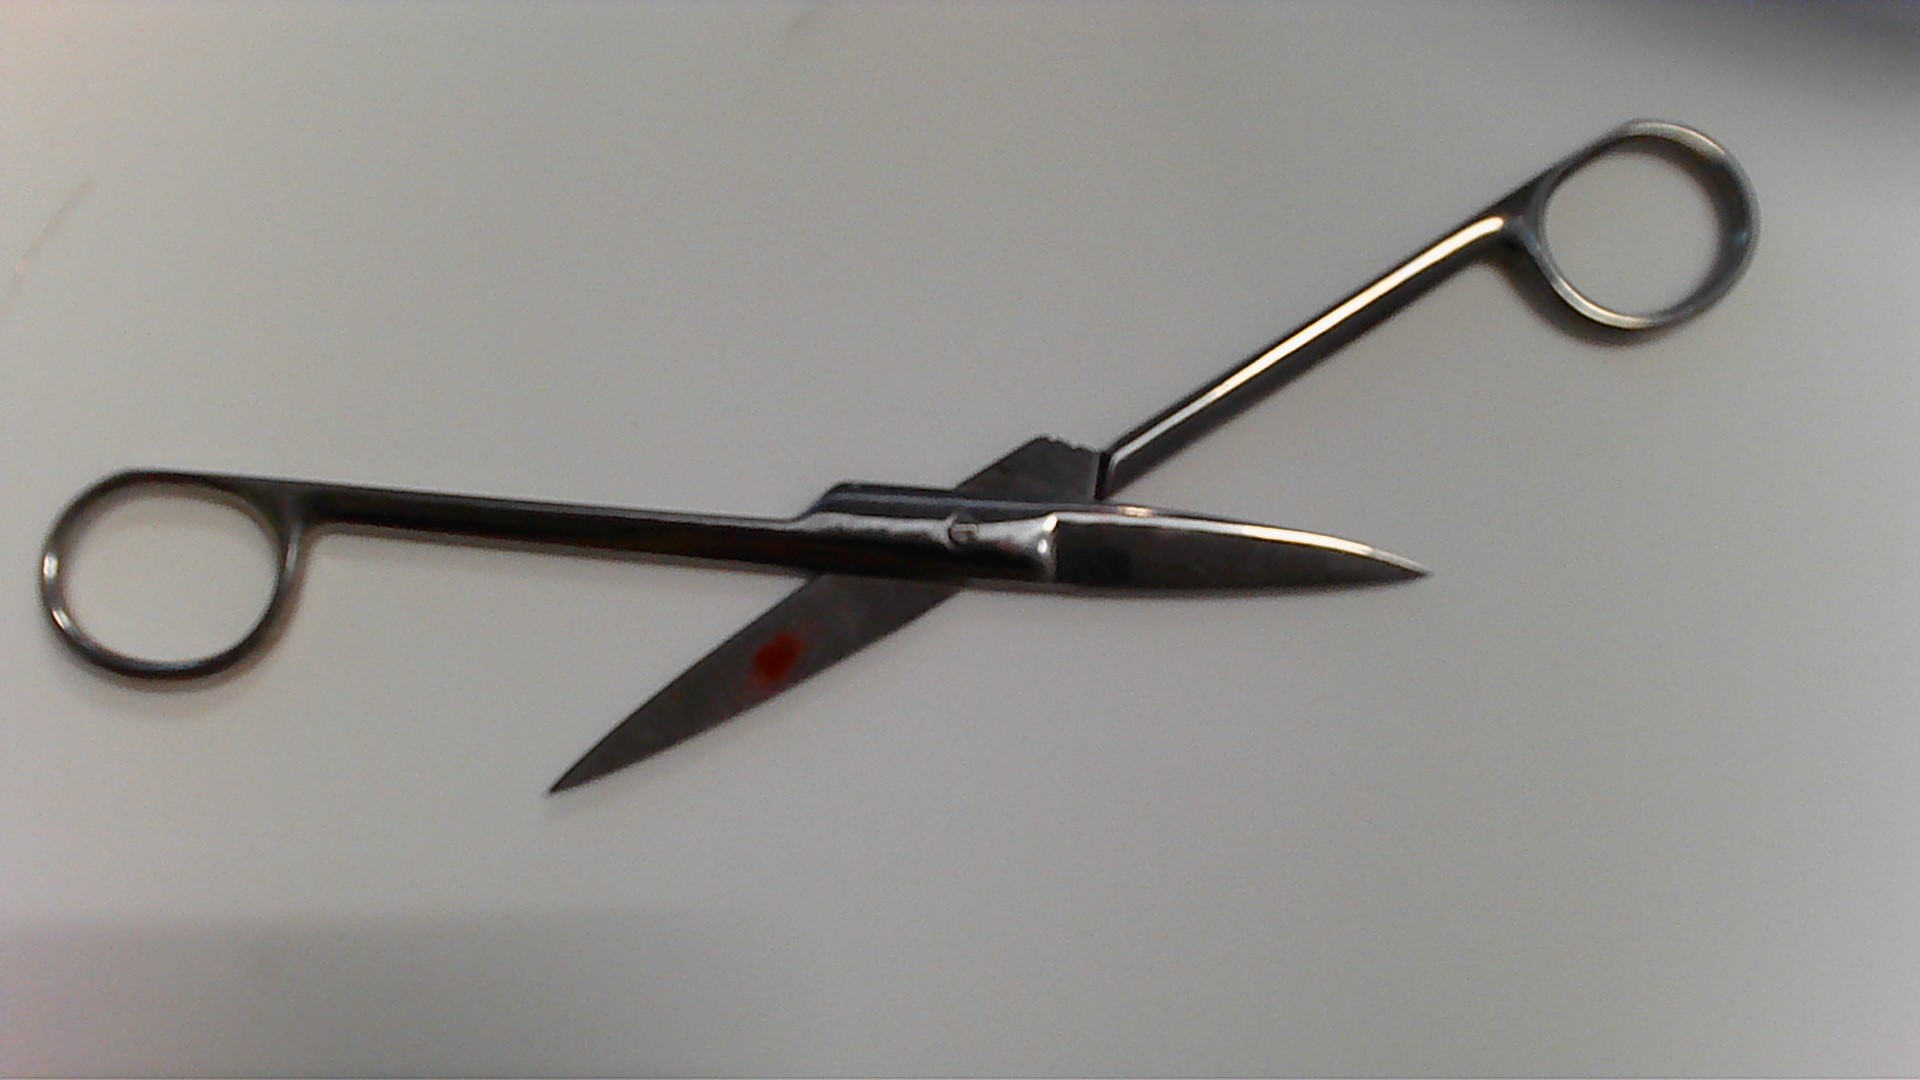Stain: (744, 625, 820, 690)
